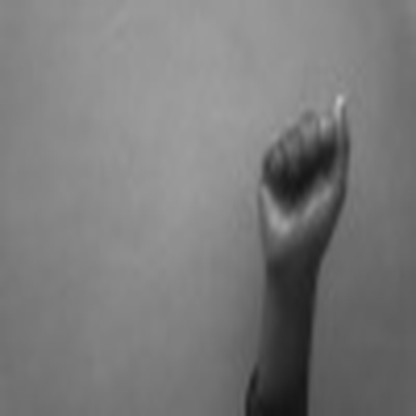a: (250, 79, 359, 262)
